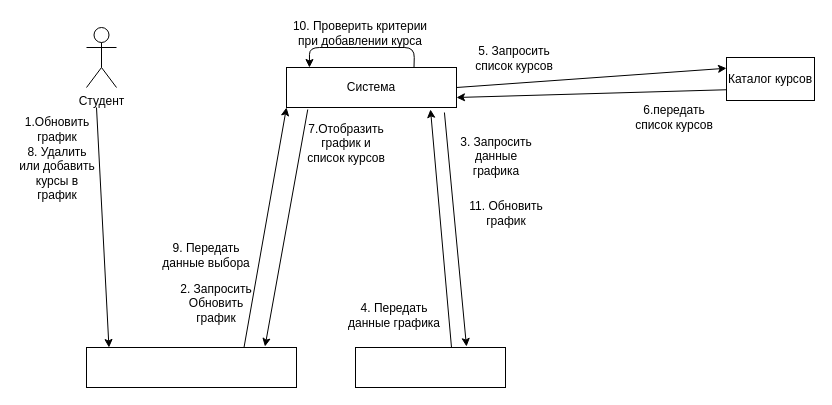
Some shapes in this 832 by 405 pixel diagram are drawn without their labels. Each missing label, with the centre of its shape:
"График" belongs at point (430, 367).
"Диалоговое окно" belongs at point (191, 367).
